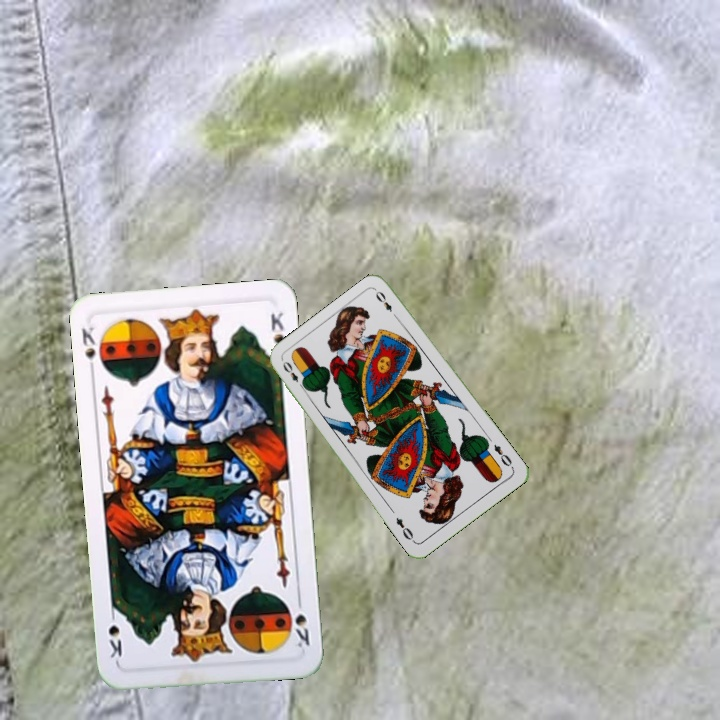EO: (278, 357, 308, 392), (490, 440, 516, 471)
SK: (290, 593, 312, 650), (77, 323, 98, 377)
